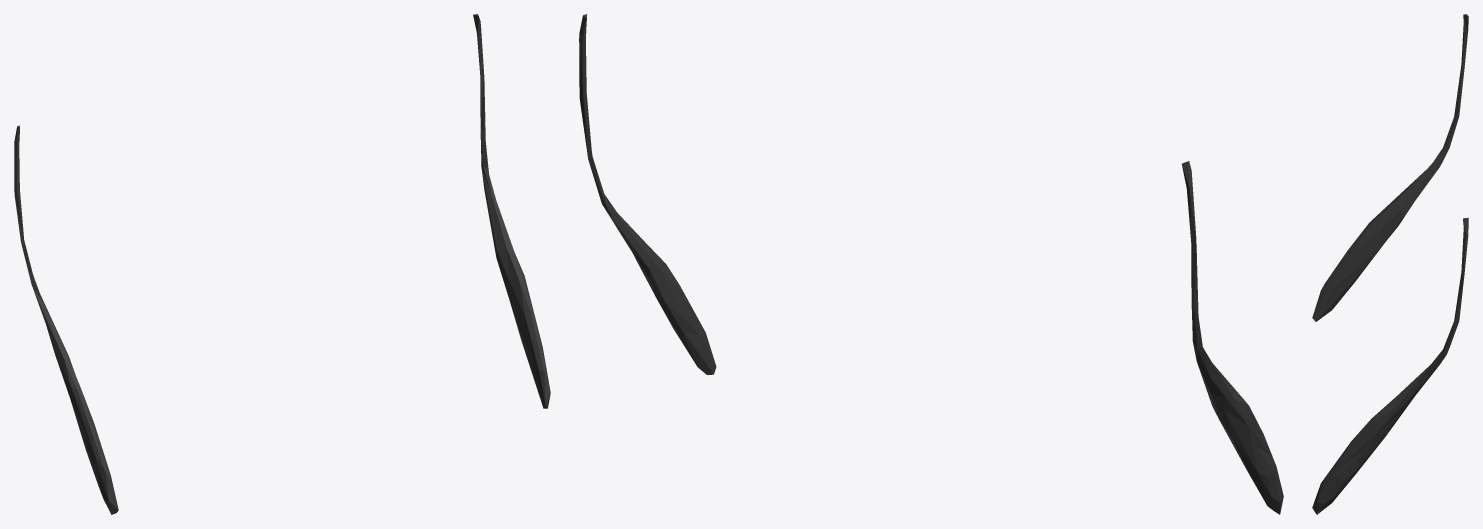
Rendered from m_fibularis_peroneus_brevis.glb.
3 renders of one model, left to right at view 1: azimuth 30°, elevation 25°; view 2: azimuth 150°, elevation 25°; view 3: azimuth 270°, elevation 25°, orthographic. The views are drawn at different scales.
Parts seen in each view (by area): view 1: m_fibularis_peroneus_brevis; view 2: m_fibularis_peroneus_brevis; view 3: m_fibularis_peroneus_brevis.
Part boxes in pixels (x1,y1,x2,y2): m_fibularis_peroneus_brevis: [14, 14, 550, 514]; m_fibularis_peroneus_brevis: [579, 14, 1283, 514]; m_fibularis_peroneus_brevis: [1312, 14, 1468, 514].
Bounding box in the file's own units: 0.0559 × 0.0376 × 0.0177.
1 material, 1 textured.
